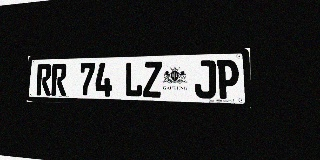4: (95, 62, 112, 97)
7: (78, 63, 95, 96)
J: (195, 60, 216, 99)
L: (124, 62, 143, 97)
P: (216, 59, 239, 99)
R: (36, 64, 52, 96), (51, 64, 67, 96)
Z: (143, 61, 162, 98)
